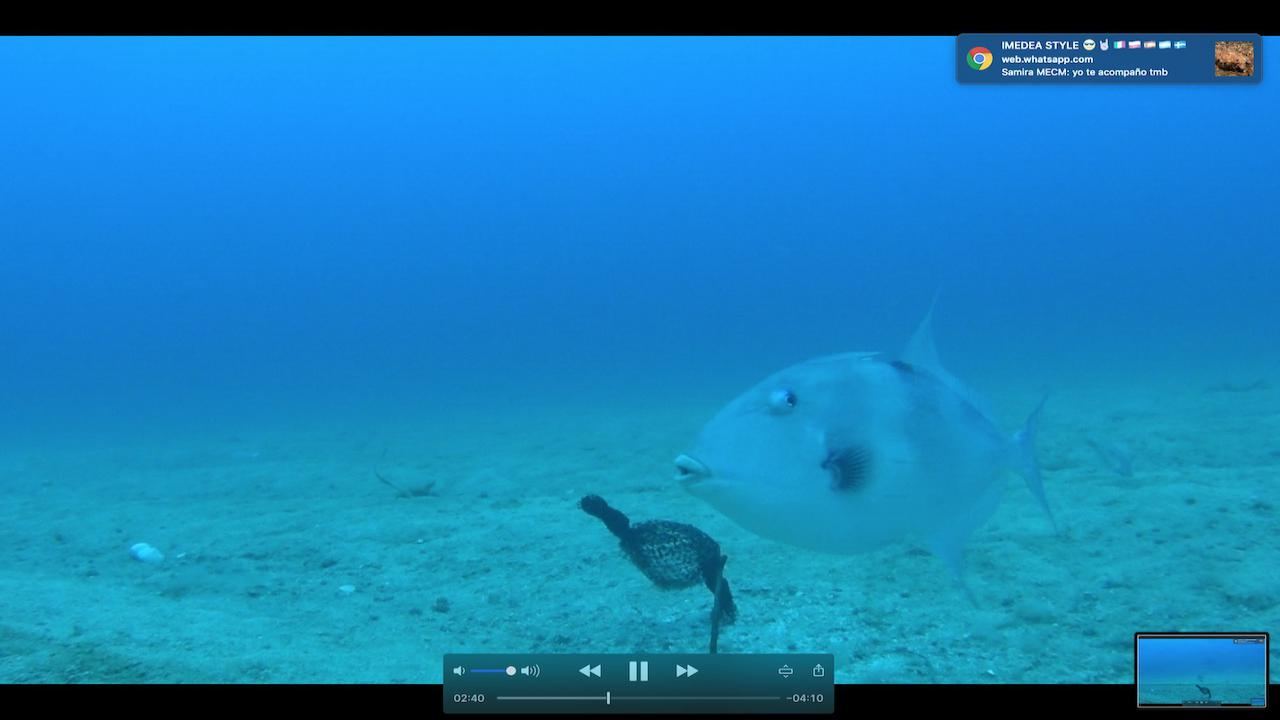balistes: (670, 280, 1072, 616)
raor: (1081, 432, 1137, 482)
